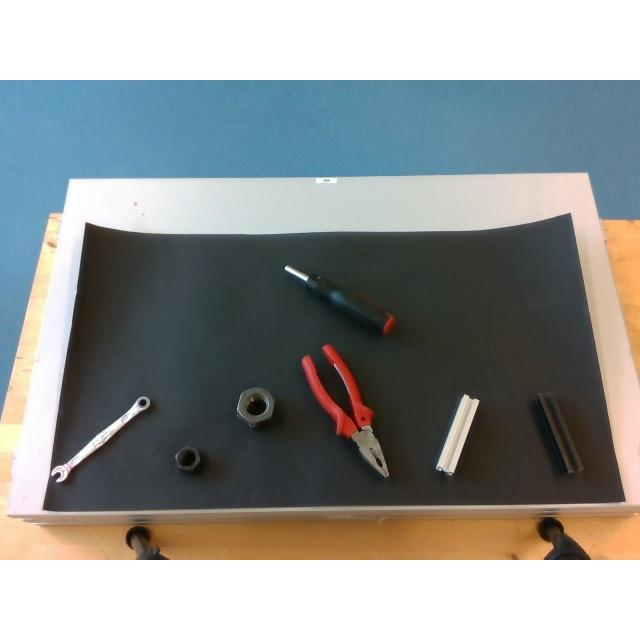F20_20_B: (537, 393, 583, 473)
F20_20_G: (436, 394, 479, 474)
M20: (172, 446, 200, 472)
M30: (236, 388, 274, 426)
Wrench: (50, 396, 150, 482)
